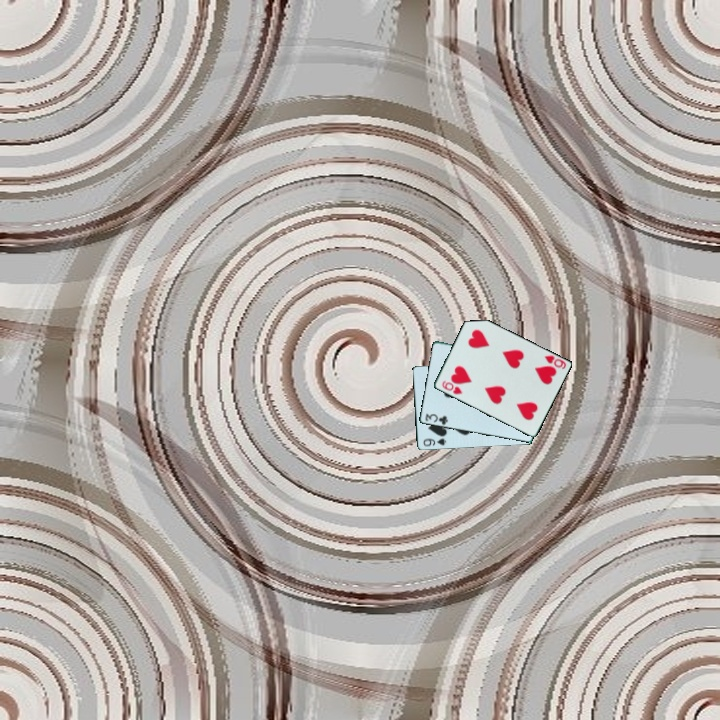3c: (422, 410, 450, 428)
6h: (541, 352, 569, 372), (438, 377, 465, 397)
9s: (419, 435, 449, 449)
